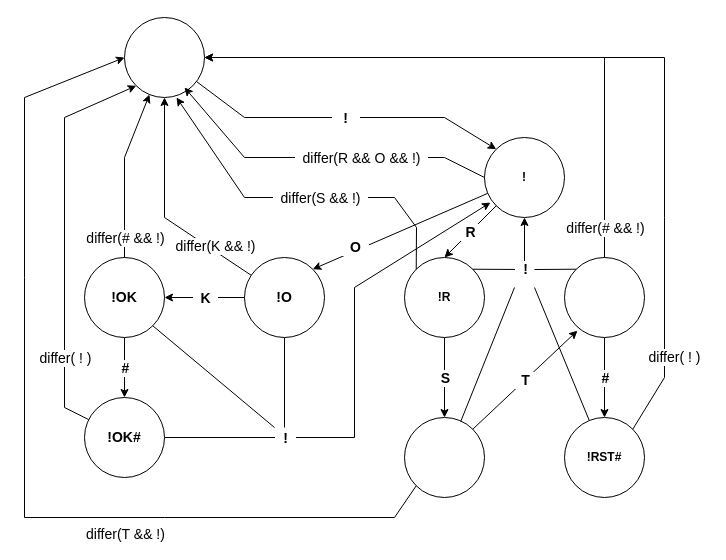
Image size: 726x560. Some labels were removed from this diagram. Here are the shapes that lost their labels. From the top down, the box of each, then its label:
(124, 16, 204, 98): Initial
(564, 256, 644, 338): !RST
(404, 416, 484, 498): !RS
